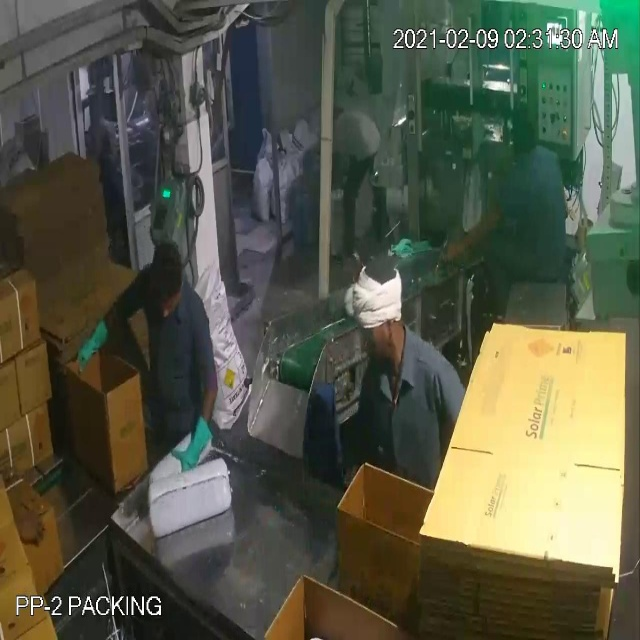Guantes: (160, 394, 221, 491), (72, 304, 118, 384)
Sin_guantes: (432, 182, 507, 274), (11, 491, 50, 563)
